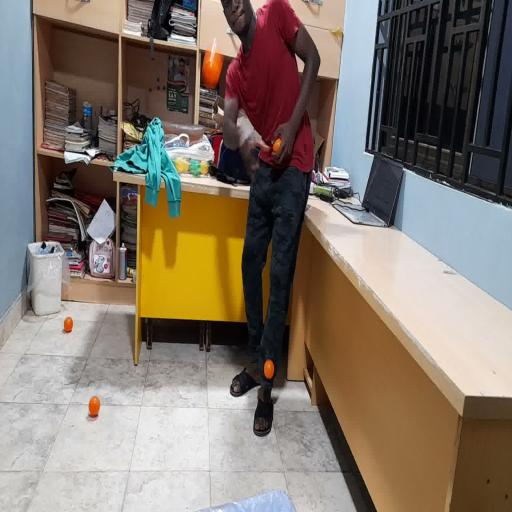plastic-ball: (202, 36, 224, 88)
